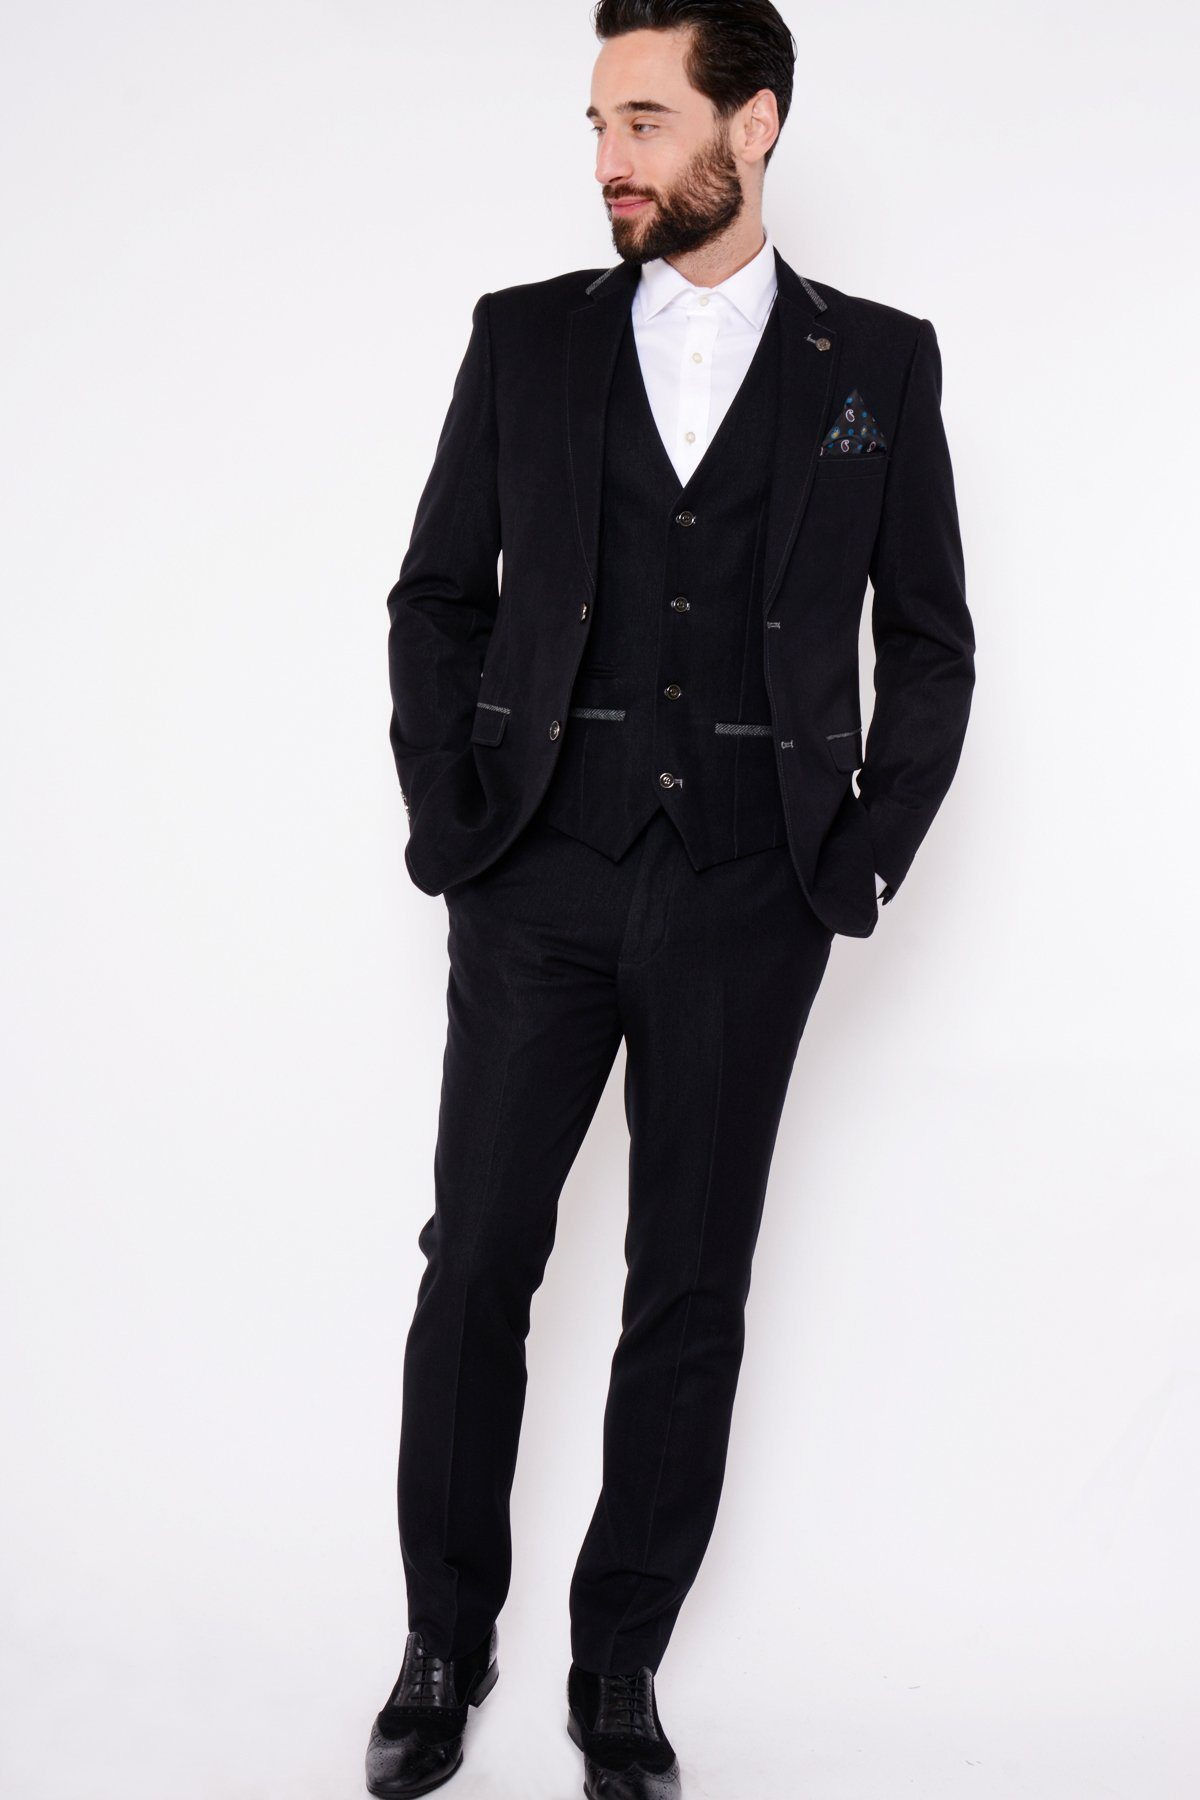F_M_suit jacket: (371, 283, 986, 921)
F_dress pants: (396, 849, 842, 1651)
F_dress shoes: (541, 1623, 703, 1791), (358, 1617, 504, 1788)
F_pocket square: (792, 379, 895, 466)
